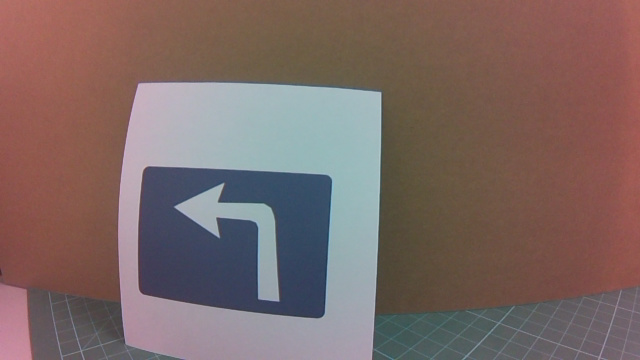left: (147, 145, 322, 316)
